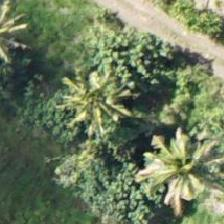coconut_tree: (104, 113, 194, 203), (52, 49, 142, 139), (143, 121, 223, 211)
